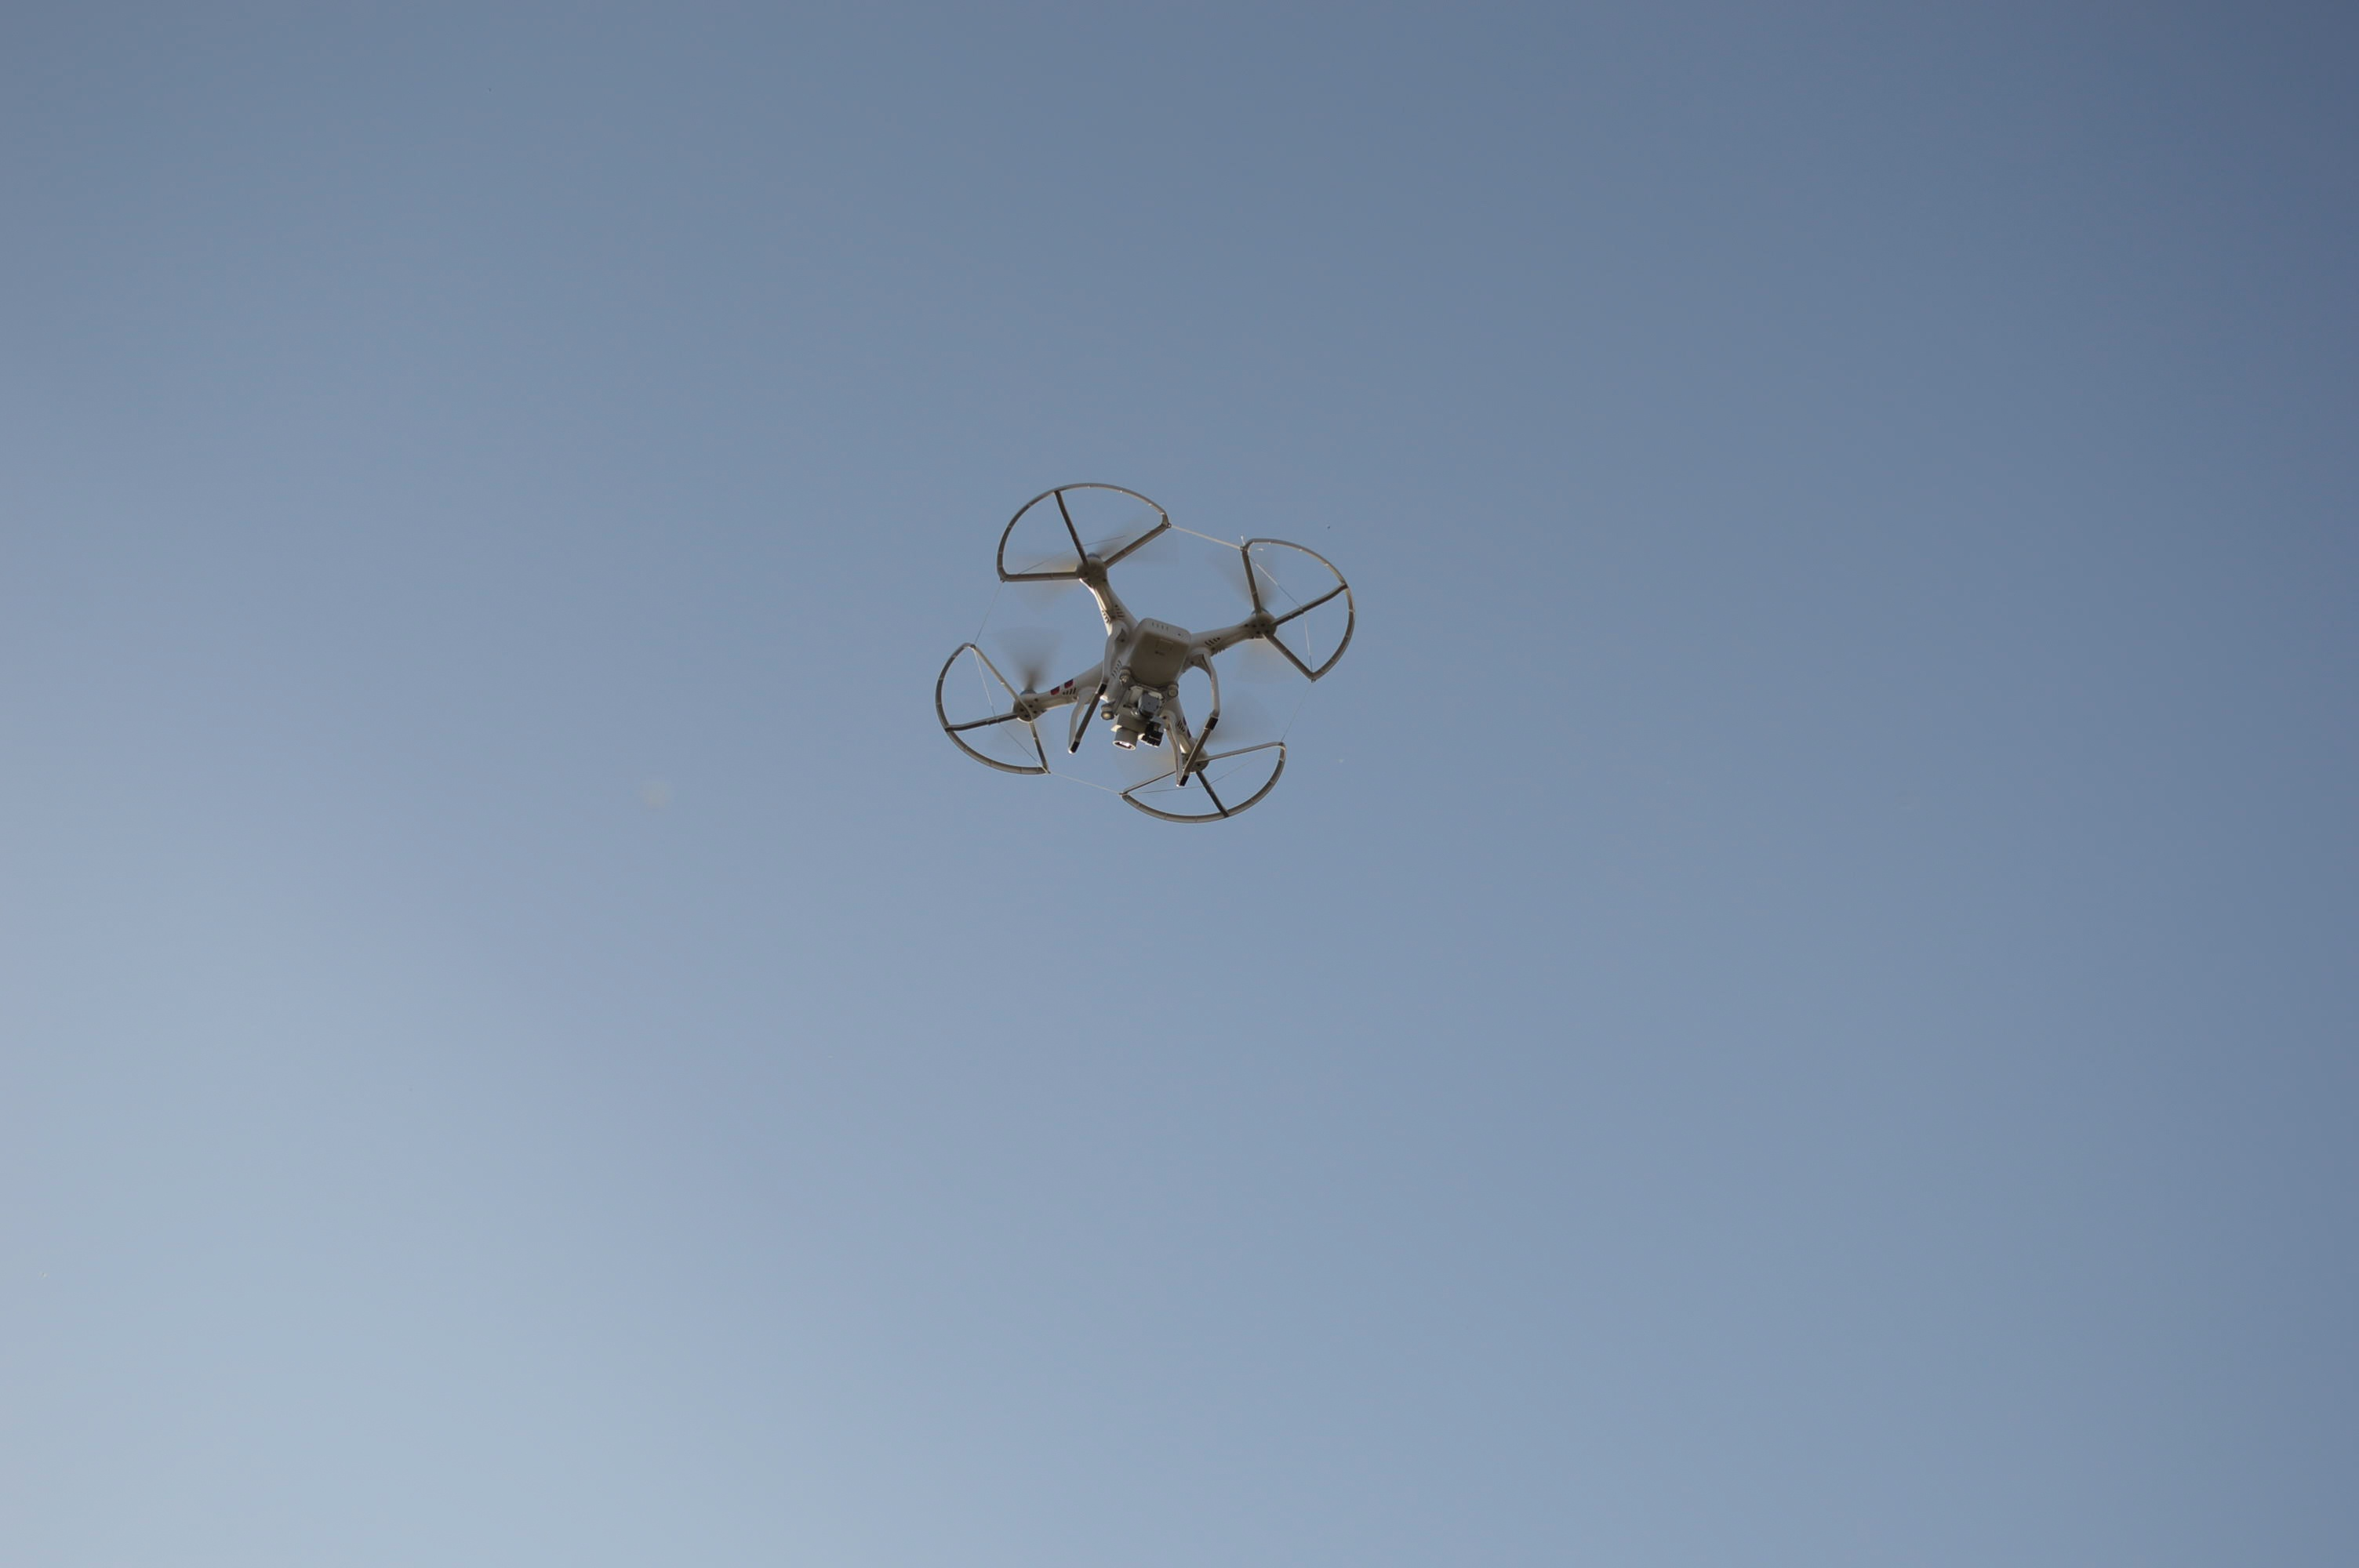DJI: (938, 480, 1361, 829)
